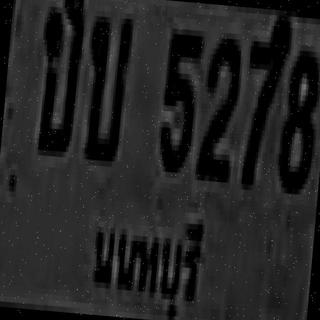A26: (79, 10, 136, 165)
N02: (195, 31, 240, 177)
N05: (156, 22, 201, 168)
N07: (236, 38, 286, 190)
N08: (274, 44, 319, 190)
P37: (82, 192, 212, 320)
